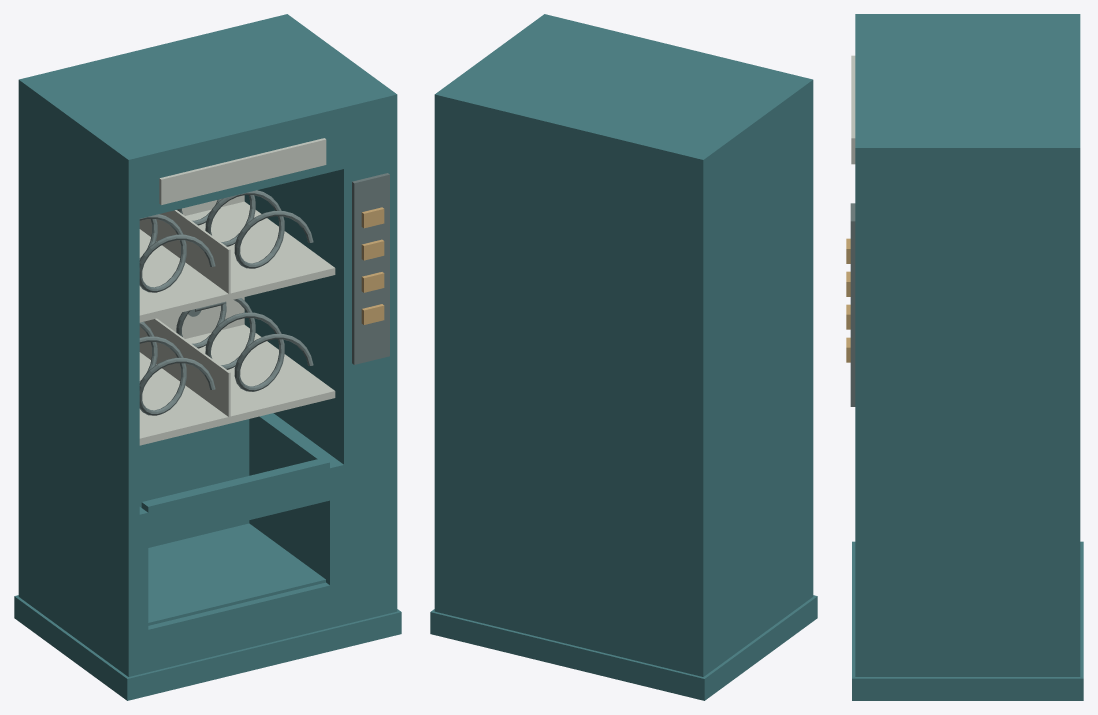
3 views of the same model, side by side, from view 1: azimuth 30°, elevation 25°; view 2: azimuth 150°, elevation 25°; view 3: azimuth 270°, elevation 25° (orthographic). The views are drawn at different scales.
Visible parts, largest first — view 1: WholeGroundedOpenFrontCabinetAndLowerRecess, WholeDividedDisplayShelf0, WholeDividedDisplayShelf1, WholeBlankFixedControlStrip, WholeBlankUpperHeader, WholeThreeTurnHorizontalCarrier0_1, WholeThreeTurnHorizontalCarrier1_1, WholeThreeTurnHorizontalCarrier0_0, WholeThreeTurnHorizontalCarrier1_0; view 2: WholeGroundedOpenFrontCabinetAndLowerRecess; view 3: WholeGroundedOpenFrontCabinetAndLowerRecess, WholeBlankFixedControlStrip, WholeBlankUpperHeader.
Part boxes in pixels (x1,y1,x2,y2): WholeGroundedOpenFrontCabinetAndLowerRecess: (14,14,401,700); WholeDividedDisplayShelf0: (139,297,335,445); WholeDividedDisplayShelf1: (139,195,335,322); WholeBlankFixedControlStrip: (352,173,389,364); WholeBlankUpperHeader: (159,138,326,204); WholeThreeTurnHorizontalCarrier0_1: (176,298,313,391); WholeThreeTurnHorizontalCarrier1_1: (177,190,313,268); WholeThreeTurnHorizontalCarrier0_0: (139,321,215,415); WholeThreeTurnHorizontalCarrier1_0: (139,214,215,292); WholeGroundedOpenFrontCabinetAndLowerRecess: (430,14,817,700); WholeGroundedOpenFrontCabinetAndLowerRecess: (852,14,1083,700); WholeBlankFixedControlStrip: (850,203,855,406); WholeBlankUpperHeader: (851,55,855,164).
Size of the model in its own units: 0.98 by 1.84 by 0.717.
